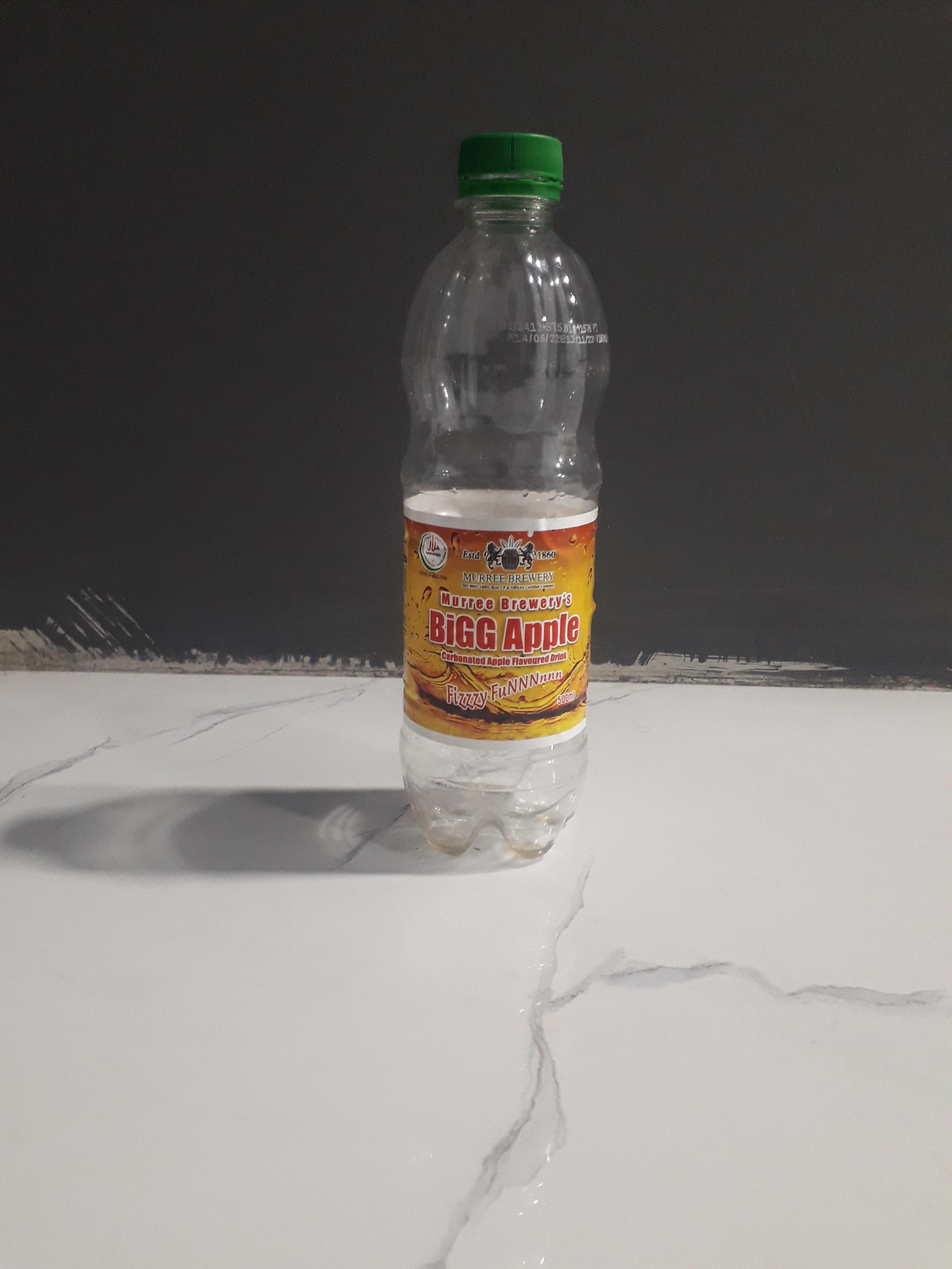bottle-plastic: (394, 125, 616, 863)
